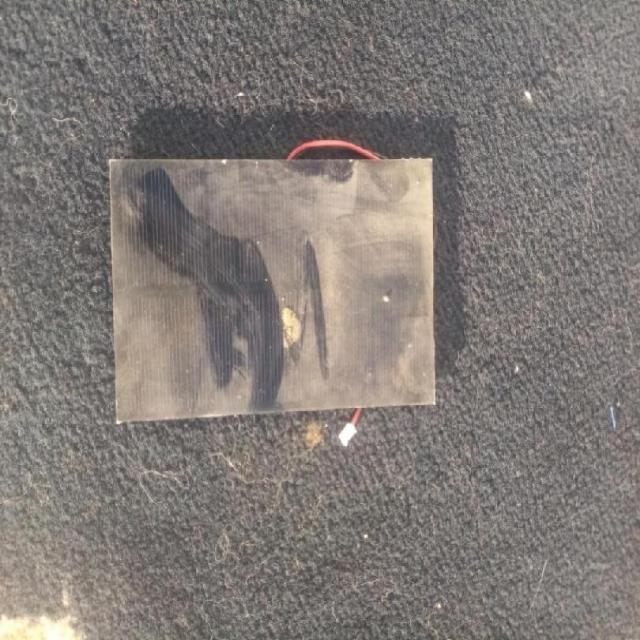faulty: (104, 158, 440, 410)
